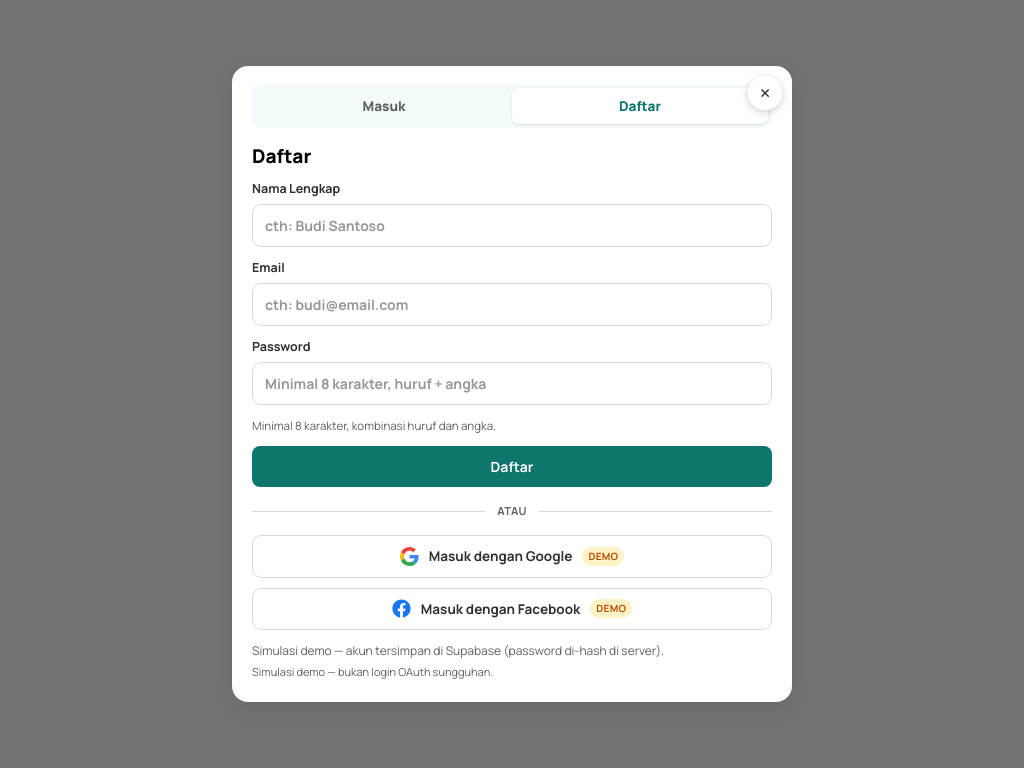
AuthModal › menolak password tanpa angka
In the field labelled "Nama Lengkap": (512, 226) left=252, top=204, right=772, bottom=247, type "Siti Aminah"
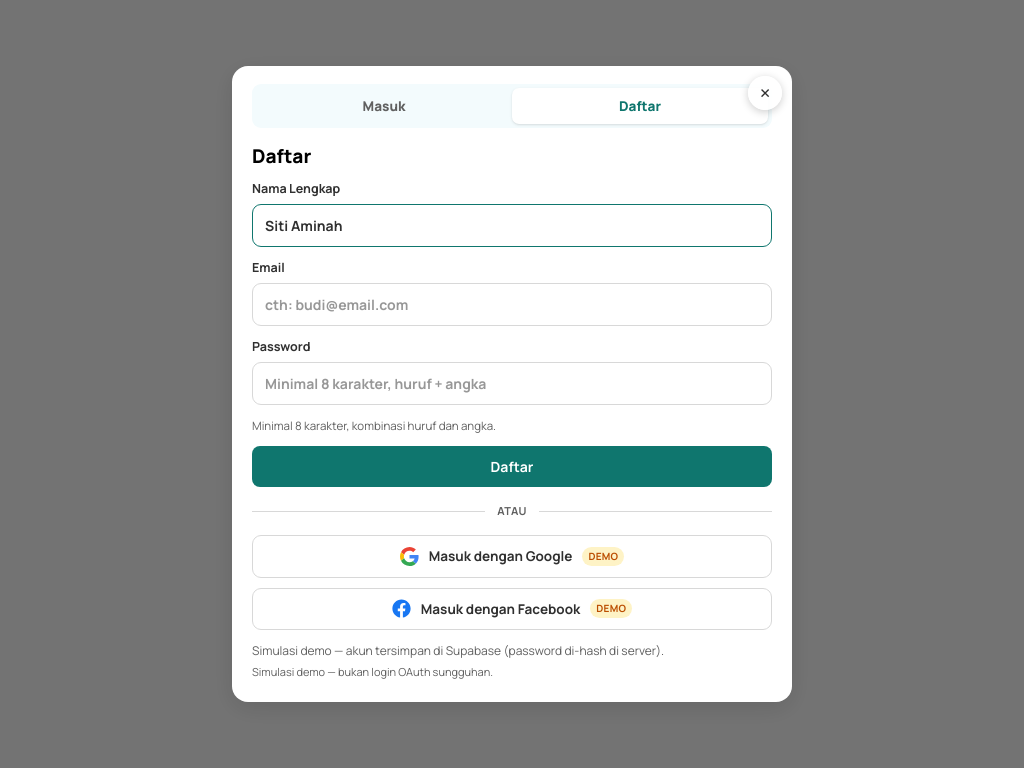
In the field labelled "Email": (512, 304) left=252, top=283, right=772, bottom=326, type "siti@email.com"
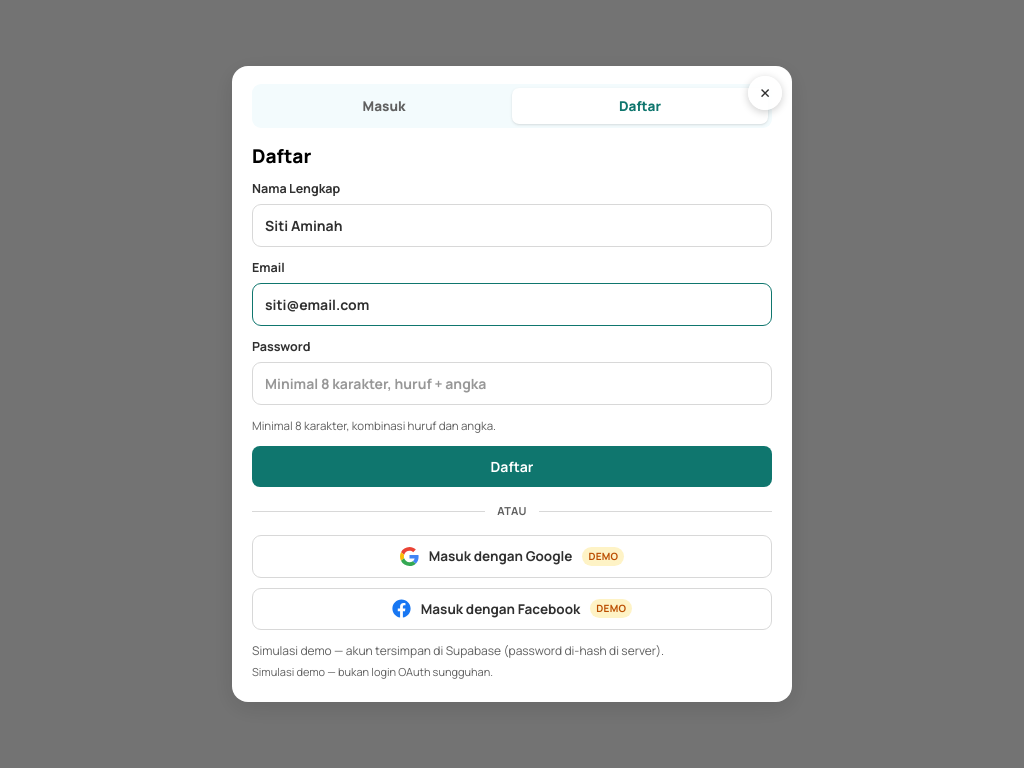
In the password field labelled "Password": (512, 383) left=252, top=362, right=772, bottom=405, type "rahasiaku"
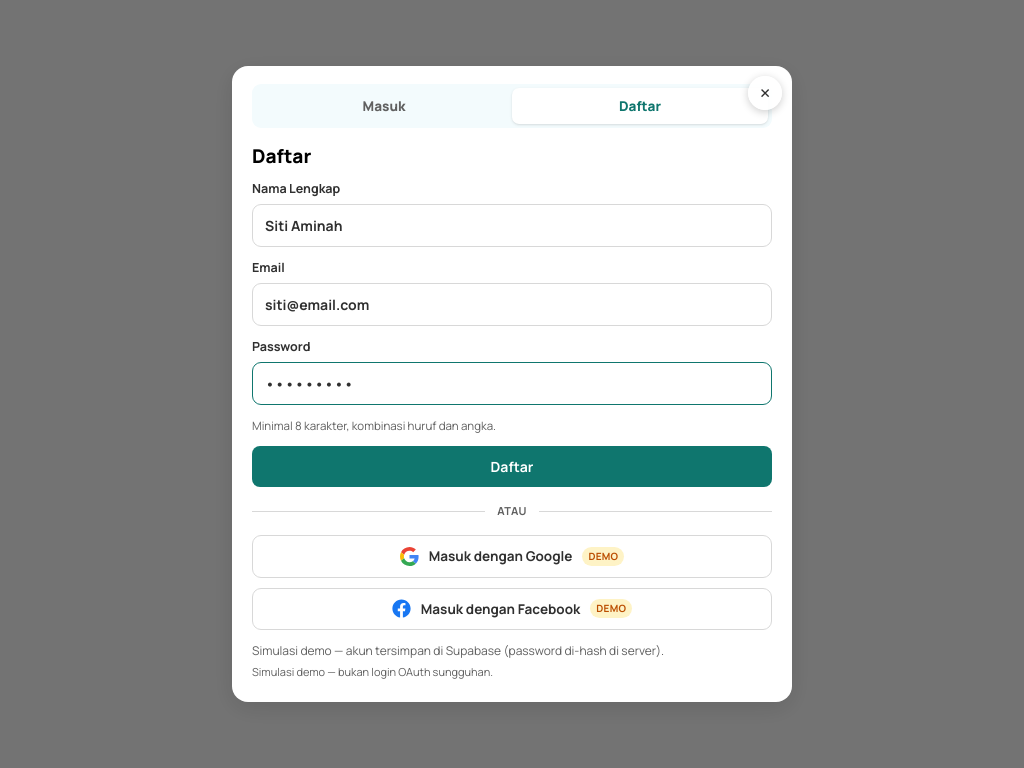
Click the button "Daftar" below "Email": (512, 466) left=252, top=446, right=772, bottom=487
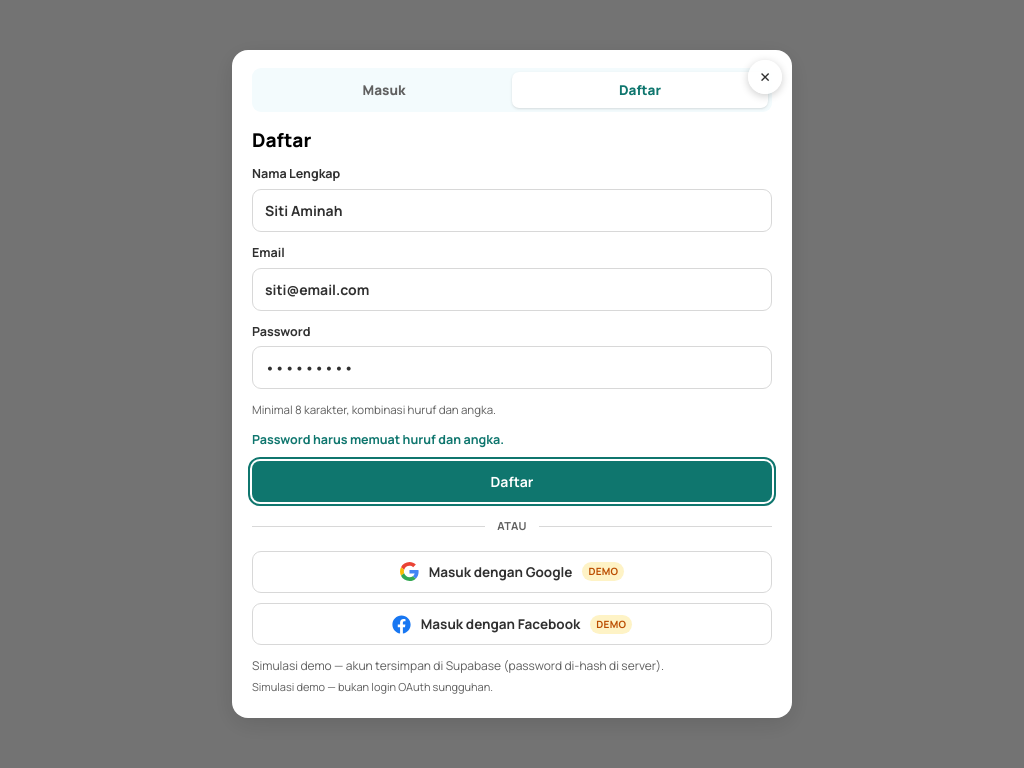
Expected: the message reads "Password harus memuat huruf dan angka.", left=252, top=431, right=504, bottom=448
